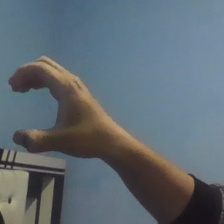C: (5, 52, 105, 162)
